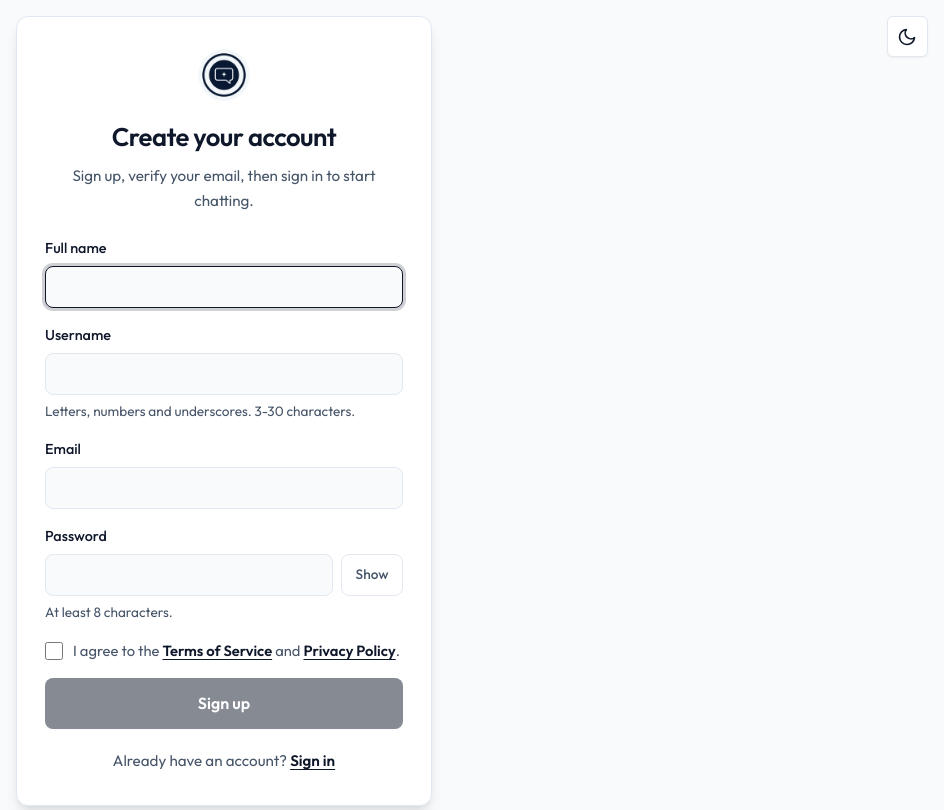
Test case: sign up › creates the account, then asks for the emailed code (no automatic login)
The width and height of the screenshot is (944, 810).
Type "Ayesha Khan" into the field labelled "Full name".
click(224, 287); type("Ayesha Khan")  # box top-left (45, 266), bottom-right (403, 308)
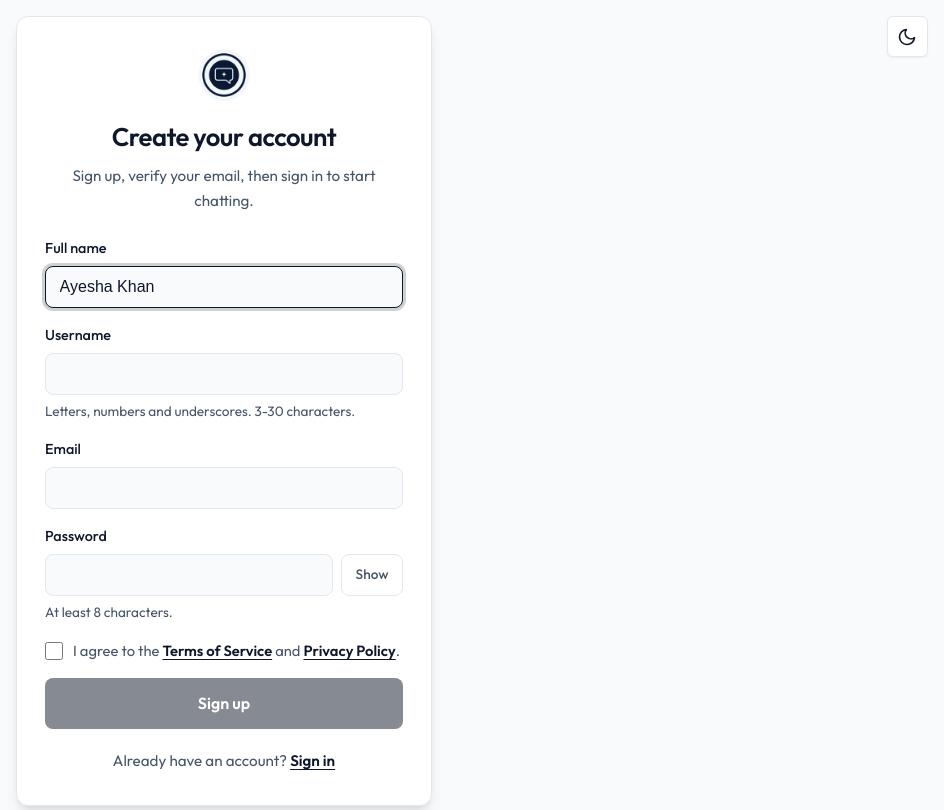
Type "ayesha" into the field labelled "Username".
click(224, 374); type("ayesha")  # box top-left (45, 353), bottom-right (403, 395)
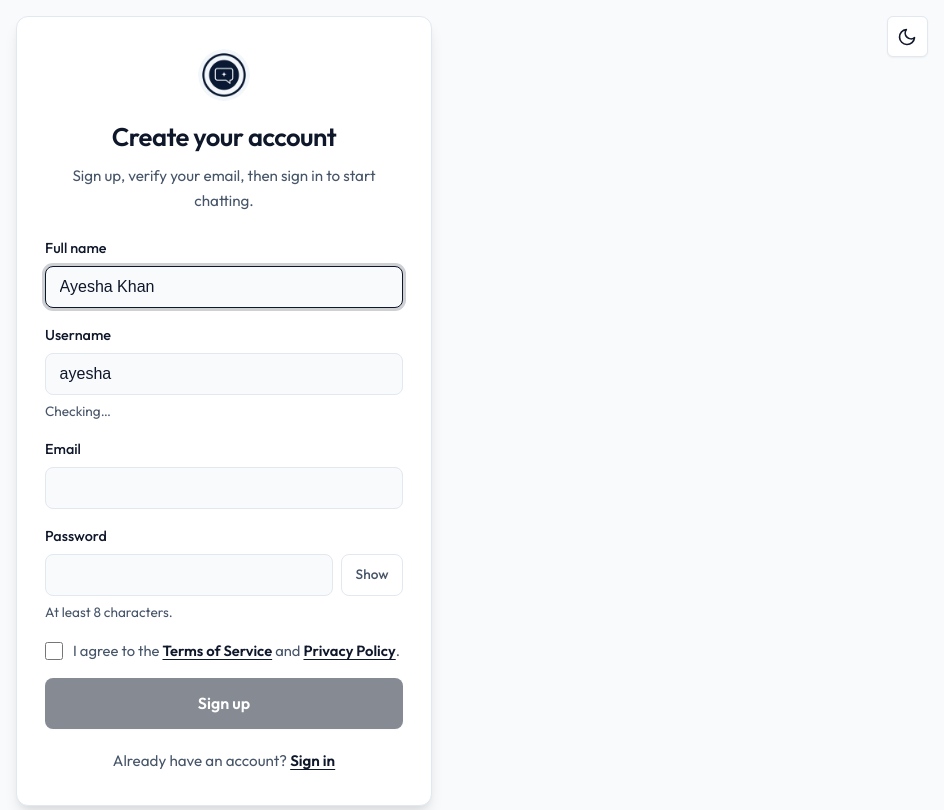
Type "A@Example.com" into the field labelled "Email".
click(224, 488); type("A@Example.com")  # box top-left (45, 467), bottom-right (403, 509)
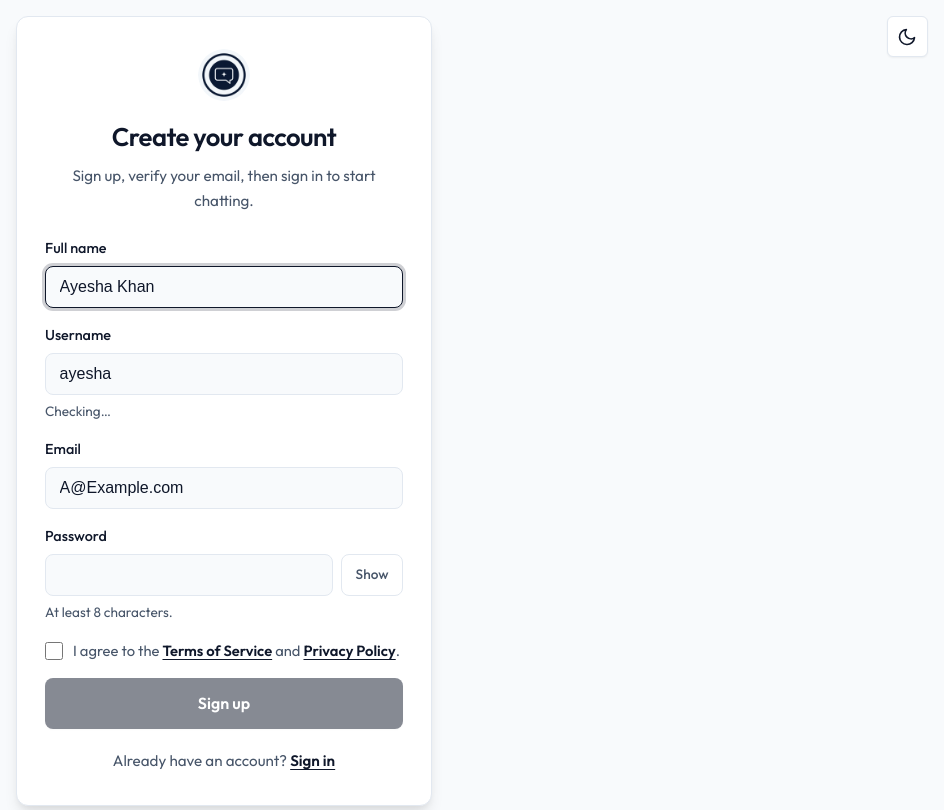
Type "secret-pass-1" into the password field labelled "Password".
click(189, 575); type("secret-pass-1")  # box top-left (45, 554), bottom-right (333, 596)
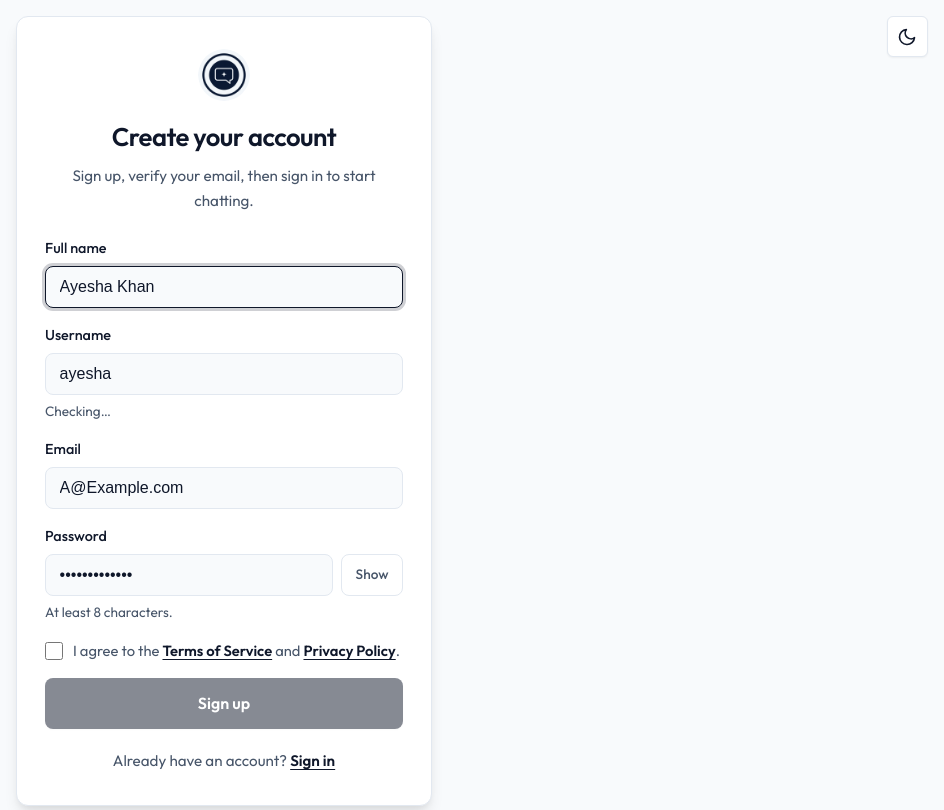
Click the checkbox labelled "I agree to the Terms of Service and Privacy Policy .".
click(54, 651)  # box top-left (45, 642), bottom-right (63, 660)
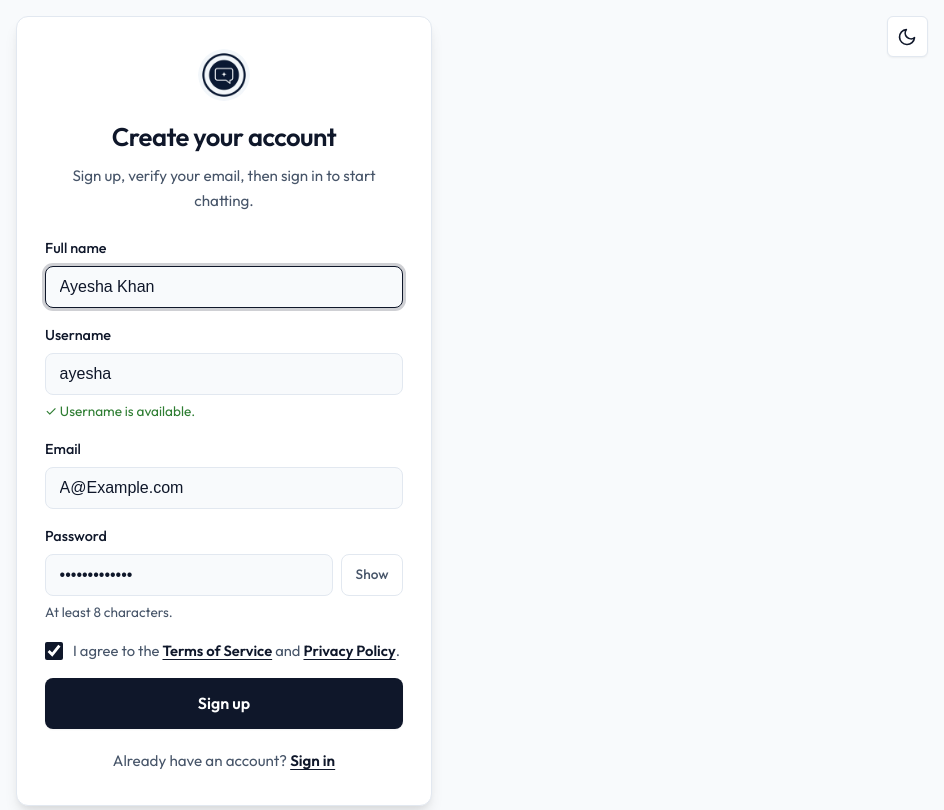
Expected: the text "✓ Username is available." is shown, top-left (45, 402), bottom-right (195, 420)
Click the button "Sign up".
click(224, 703)  # box top-left (45, 678), bottom-right (403, 729)
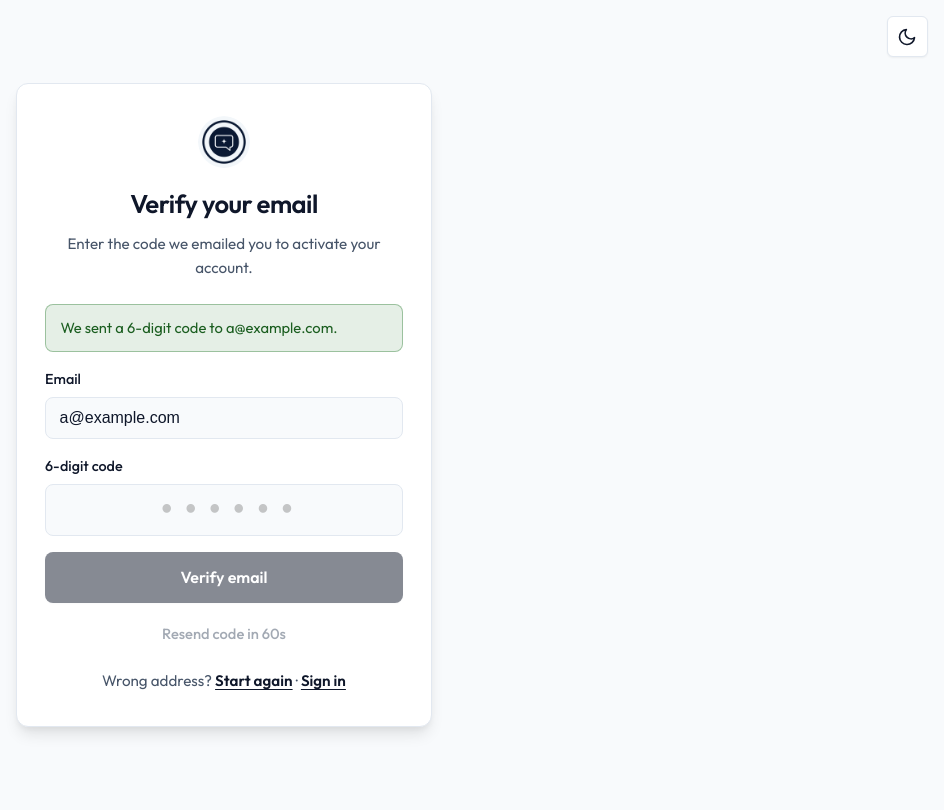
Expected: the heading "Verify your email" is shown, top-left (130, 187), bottom-right (318, 220)
Expected: the text "We sent a 6-digit code to a@example.com." is shown, top-left (45, 304), bottom-right (403, 352)
